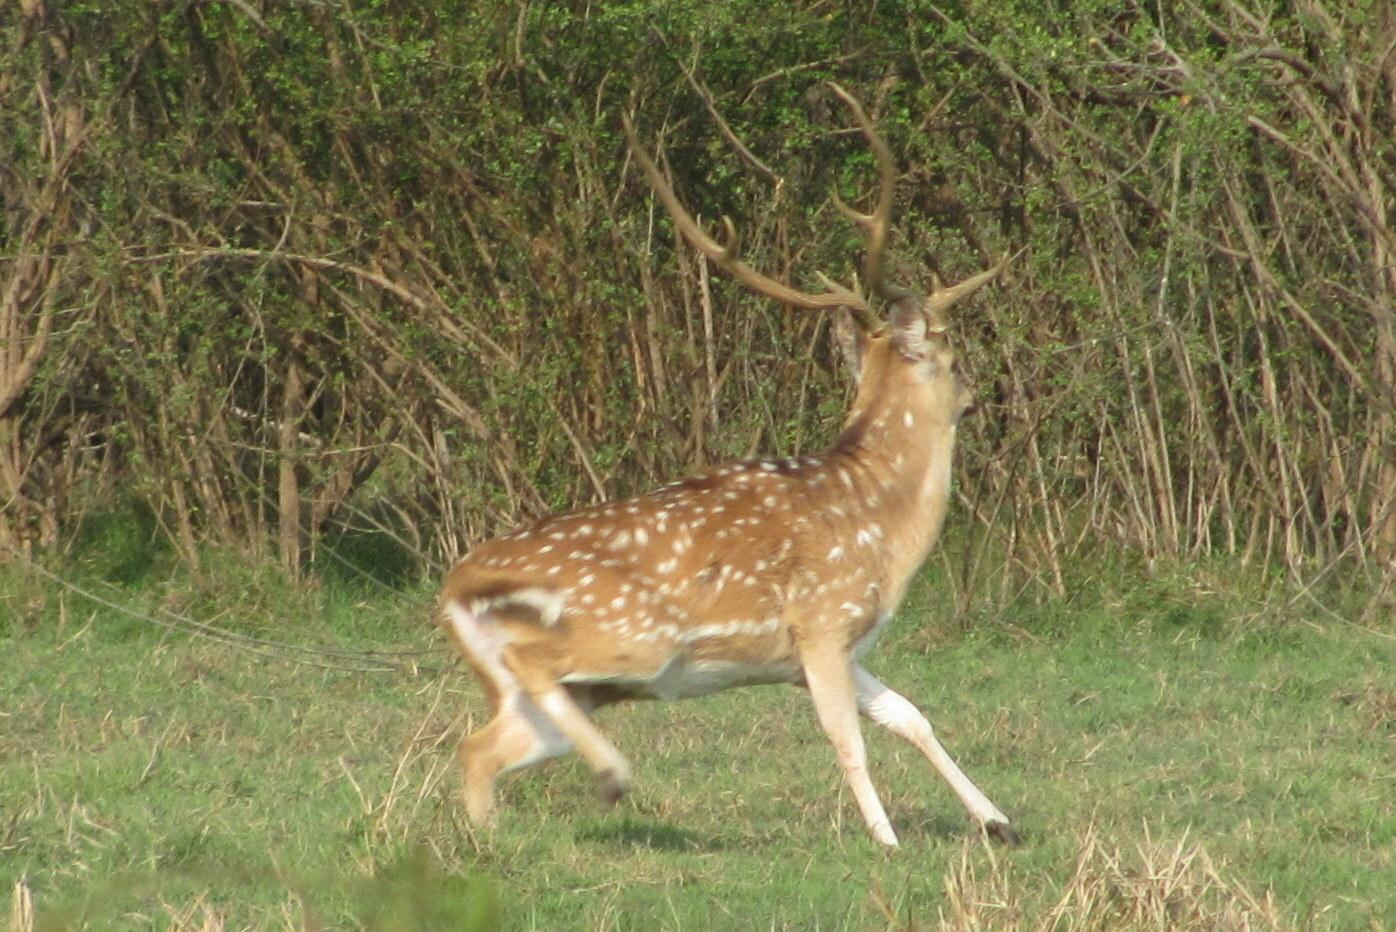Deer: (440, 84, 1007, 845)
